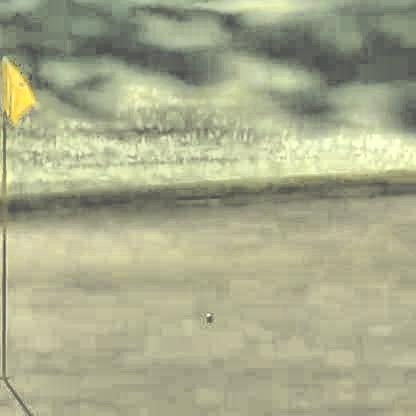golfball: (203, 309, 210, 319)
